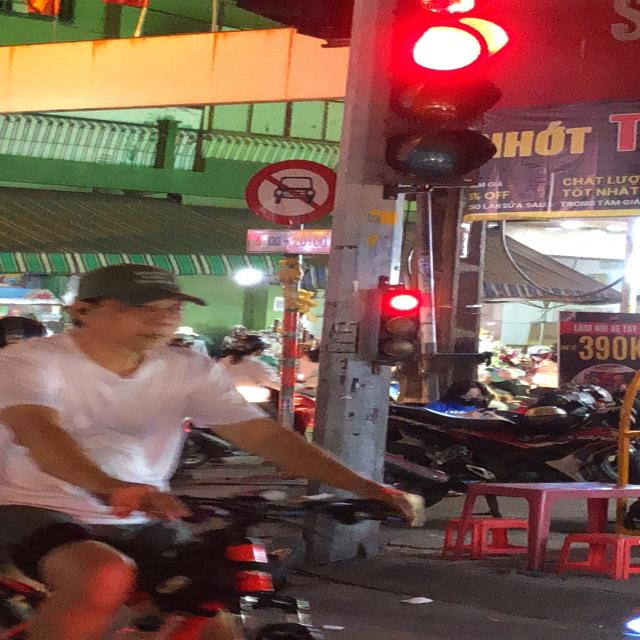Bien bao cam xe oto: (241, 157, 338, 227)
